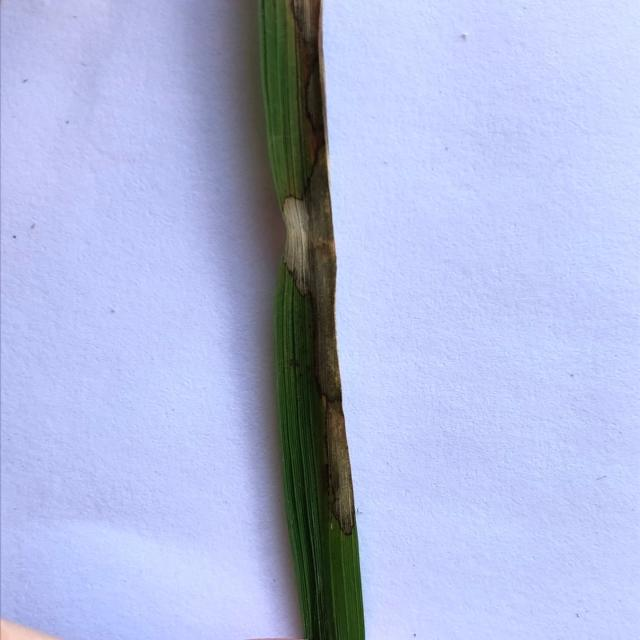Leaf Blight: (283, 0, 356, 536)
